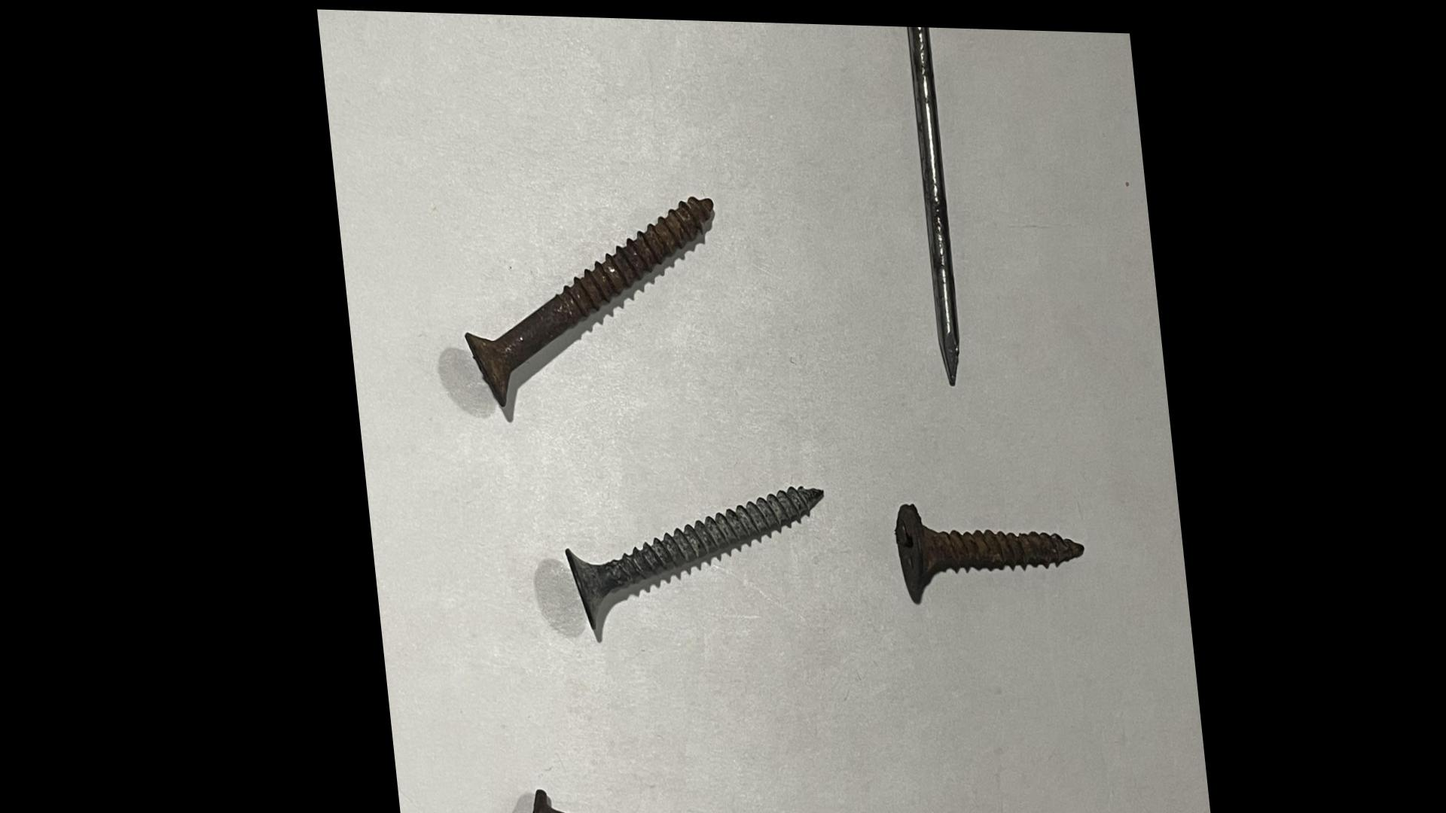nail: (863, 20, 997, 395), (500, 761, 935, 813)
screw: (435, 162, 737, 439), (539, 453, 834, 655), (874, 475, 1087, 628)
